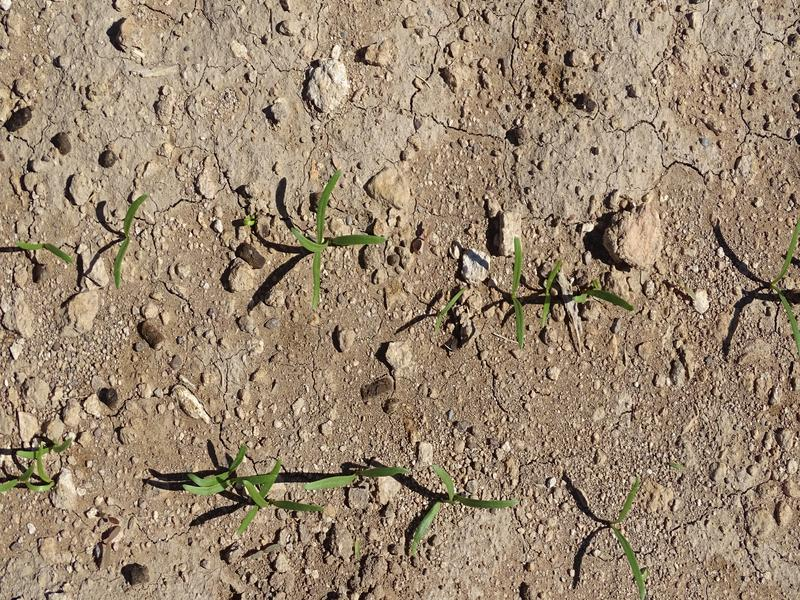Espinaca: (283, 169, 390, 304), (177, 447, 328, 527), (413, 463, 516, 554), (538, 265, 634, 325), (612, 475, 652, 591), (310, 456, 407, 501), (1, 435, 73, 493), (108, 192, 152, 284), (508, 244, 530, 347), (16, 233, 77, 266), (785, 217, 800, 347)
